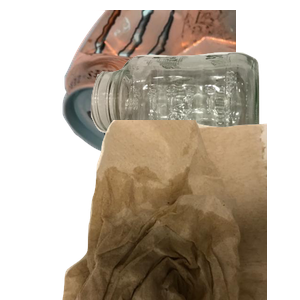glass: (88, 50, 300, 194)
metal: (60, 10, 300, 175)
plastic: (88, 182, 242, 300)
trash: (60, 120, 300, 300)
